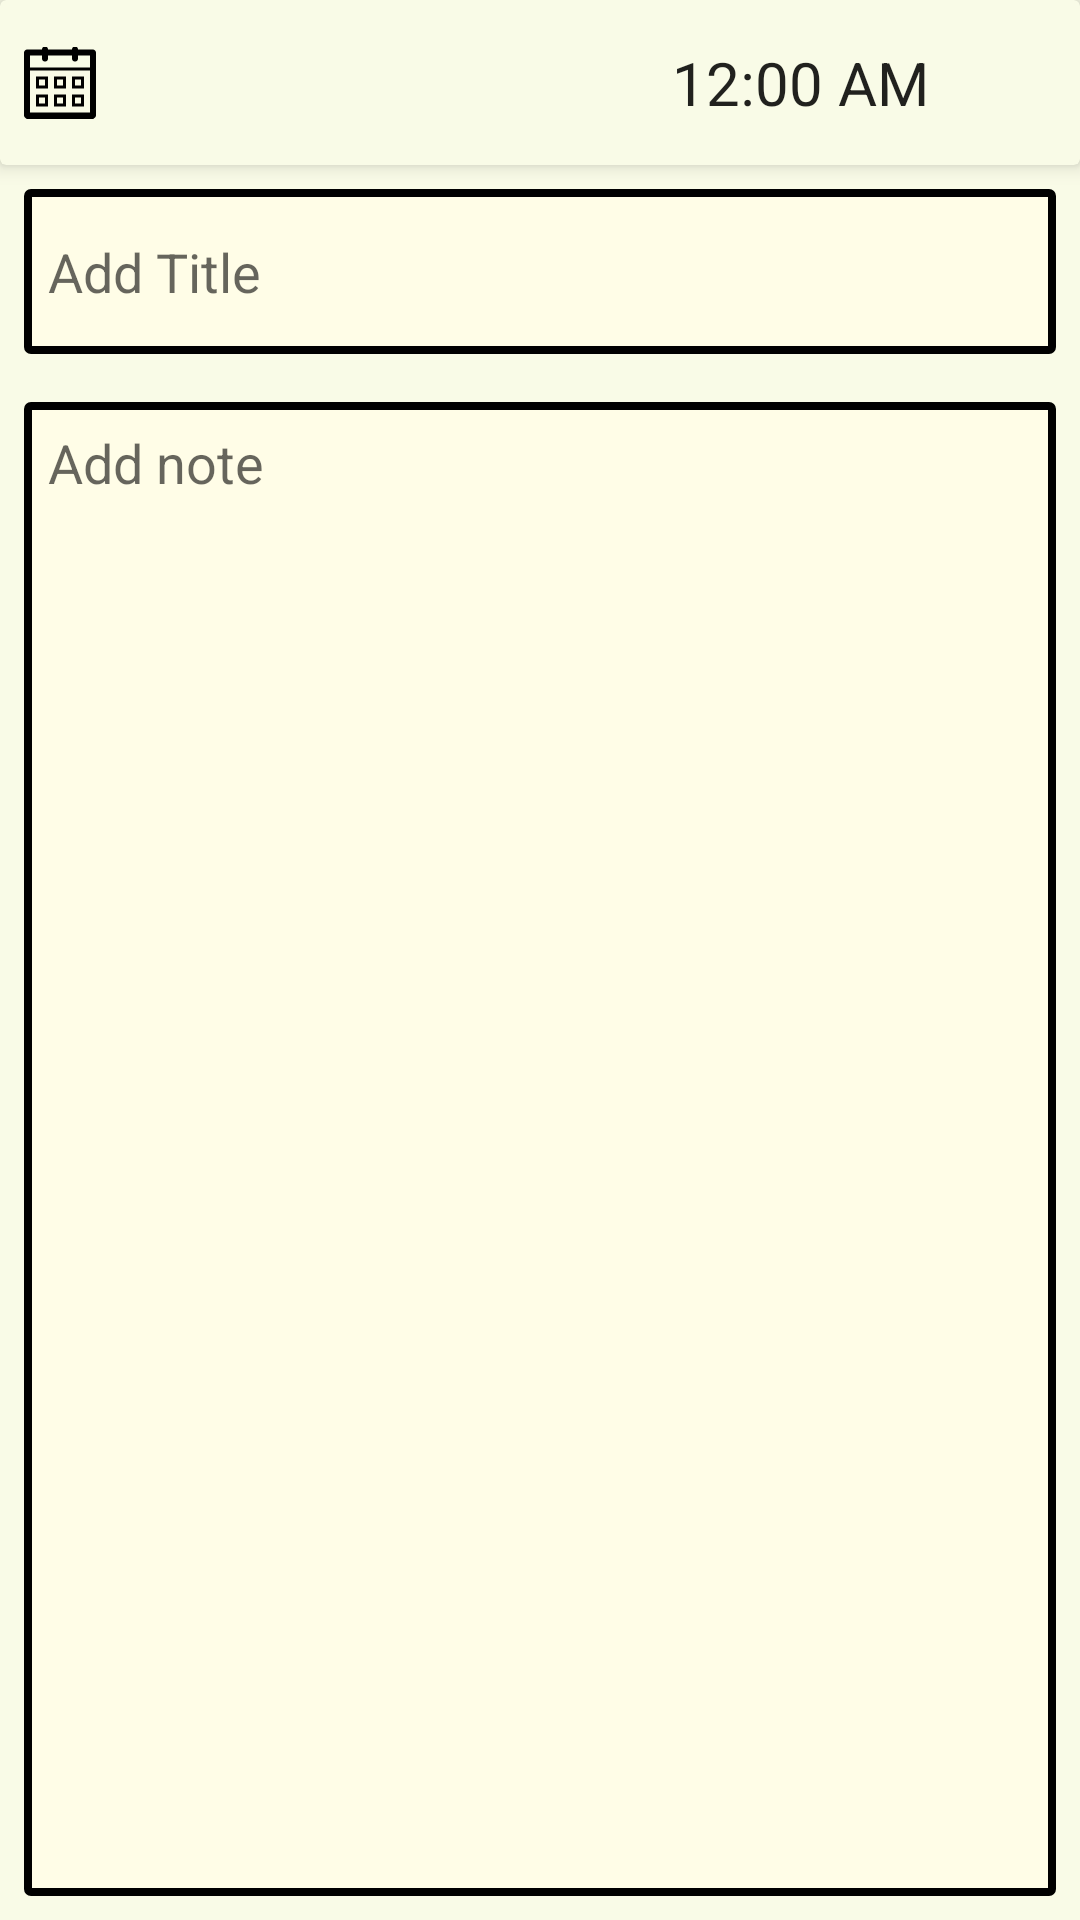

Where to tap for icons on this 1080px×1920px app screen, as (x=x, y=y):
calendar: (x=60, y=83)
